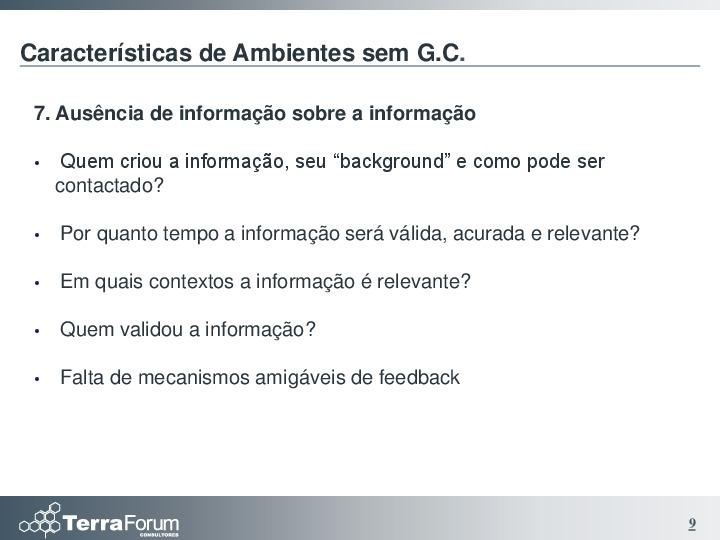paragraph: (29, 91, 660, 403)
title: (15, 32, 476, 72)
